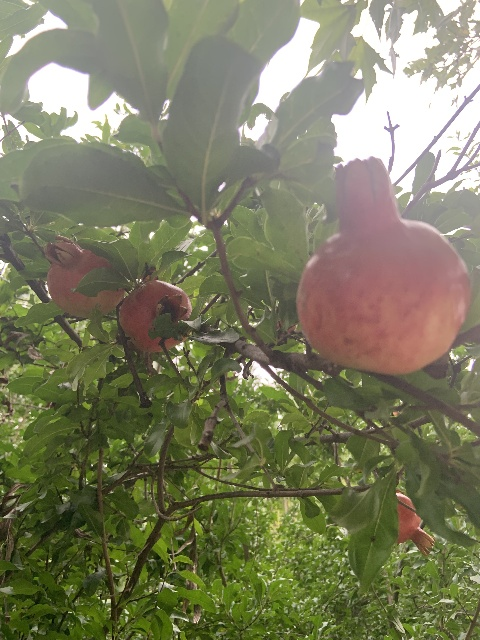ripe: (296, 156, 471, 374), (45, 235, 125, 317), (118, 280, 192, 353), (396, 493, 434, 556)
